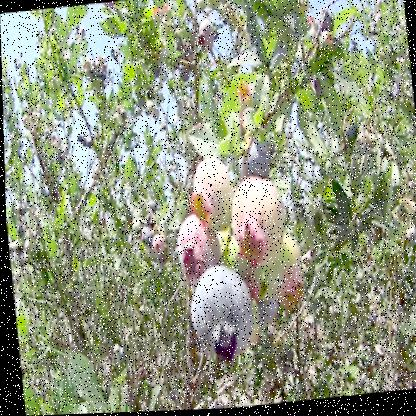intermediate: (229, 184, 283, 263), (189, 163, 230, 229), (176, 229, 219, 280), (198, 21, 216, 48), (152, 237, 165, 257), (415, 211, 416, 252)
mature: (187, 273, 250, 361), (236, 141, 271, 182), (343, 124, 363, 152), (319, 11, 336, 35), (140, 230, 154, 250), (177, 68, 193, 84), (55, 153, 63, 167), (149, 202, 157, 215)
young: (24, 224, 37, 255), (207, 1, 222, 9), (25, 113, 31, 131)
